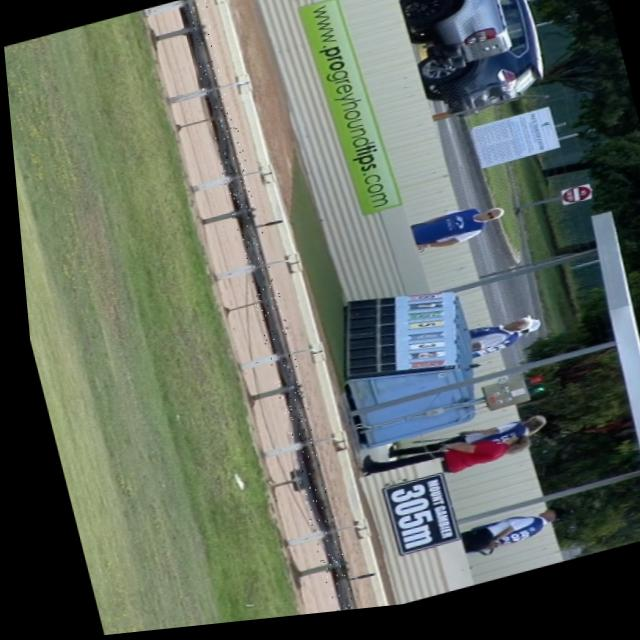rail: (177, 2, 345, 617)
